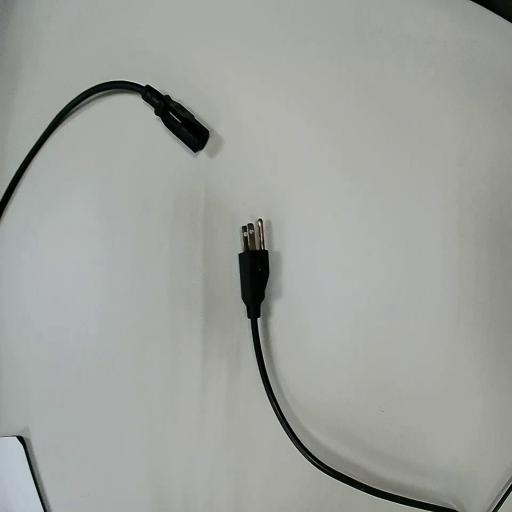wire: (239, 234, 455, 511), (0, 81, 208, 216)
